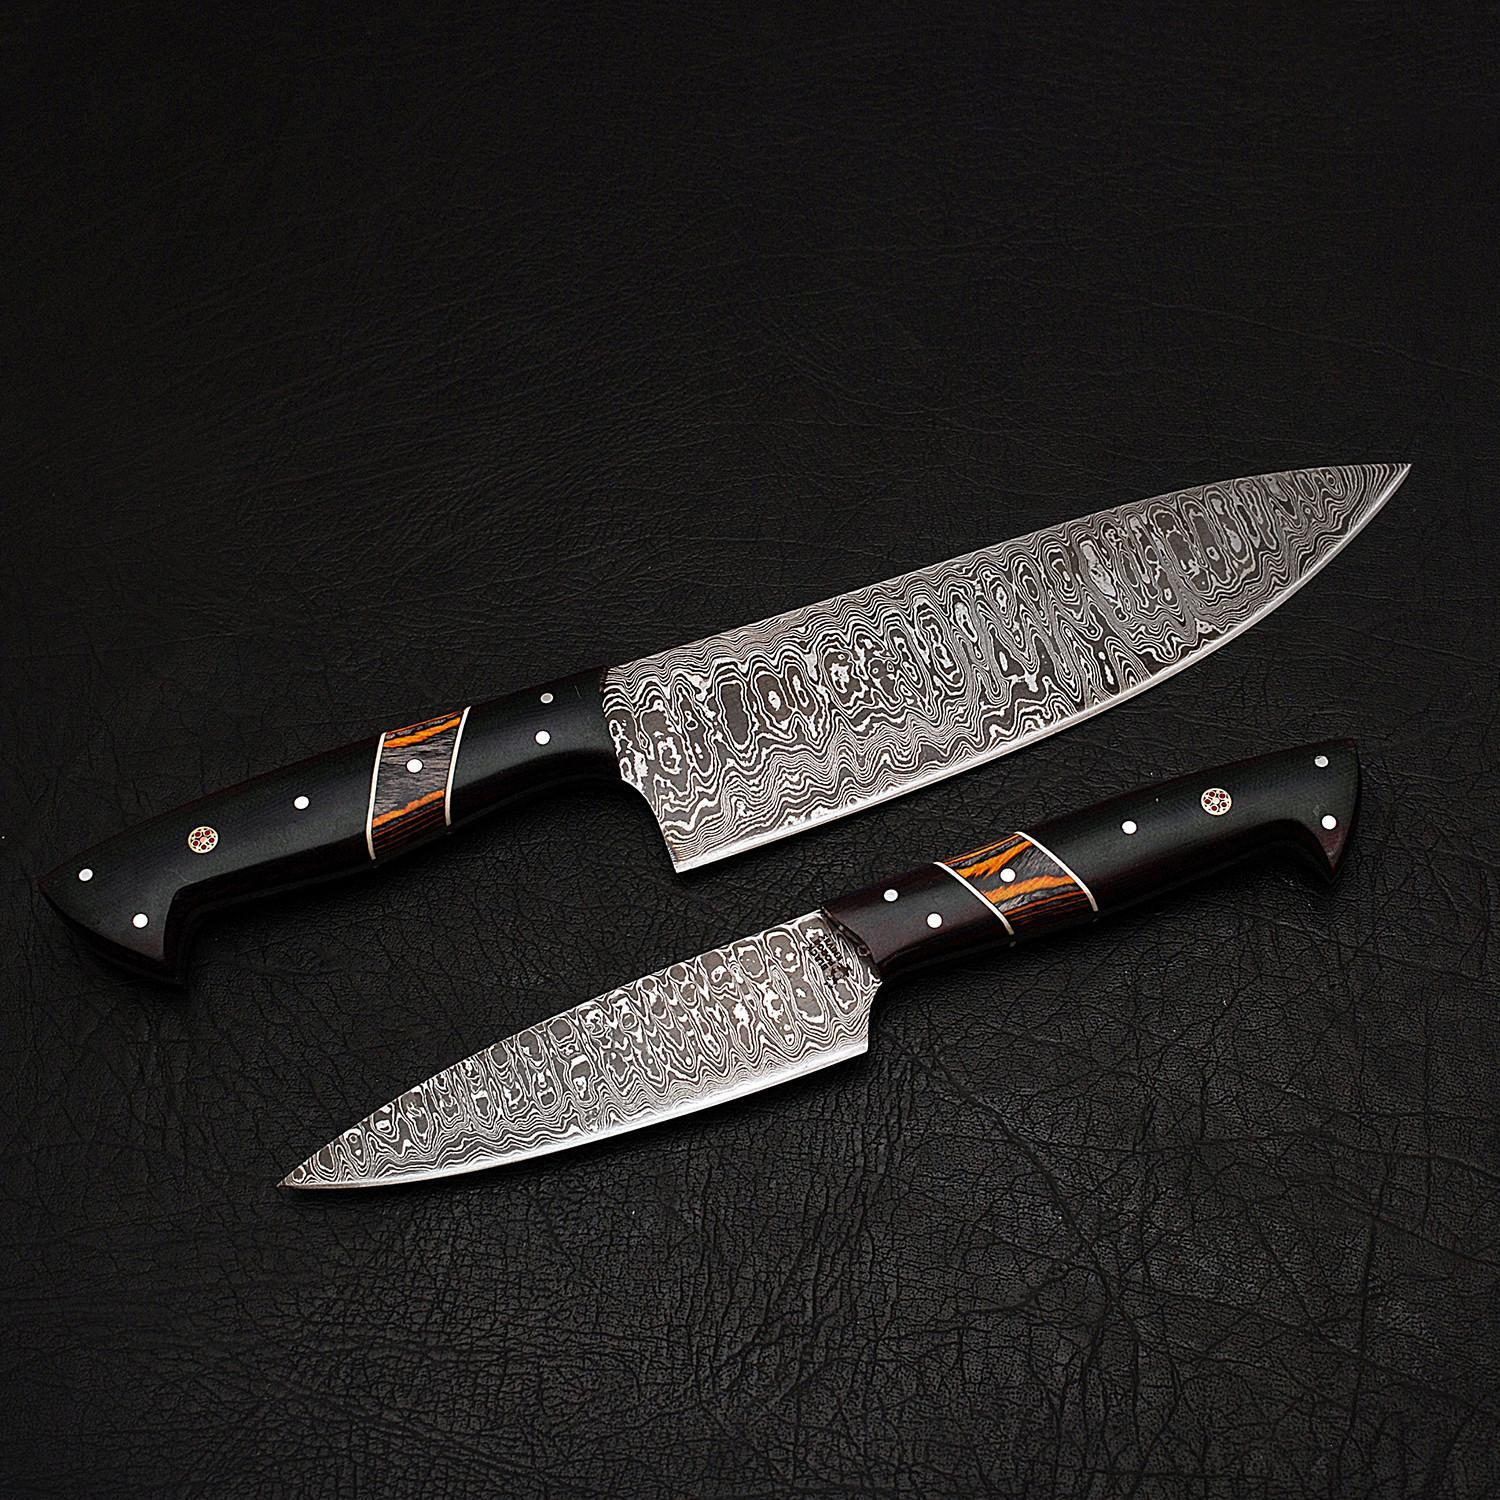faca: (43, 466, 1408, 984), (282, 740, 1359, 1190)
